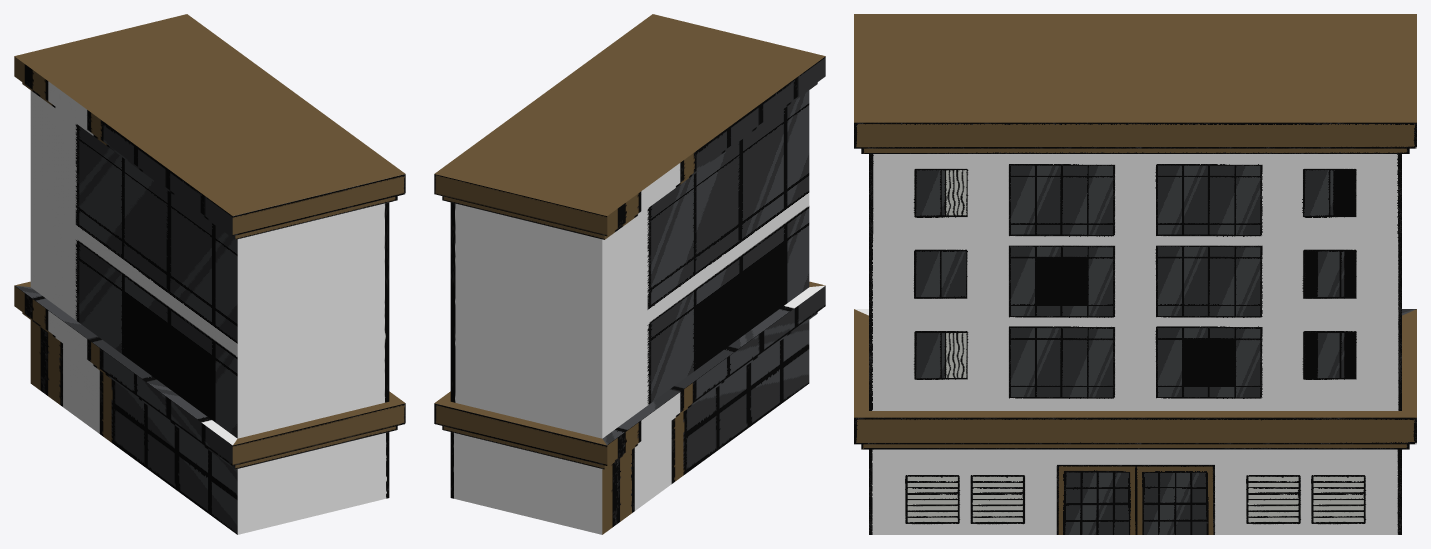
Rendered from predio_3.glb.
3 views of the same model, side by side, from view 1: azimuth 30°, elevation 25°; view 2: azimuth 150°, elevation 25°; view 3: azimuth 270°, elevation 25° (orthographic). The views are drawn at different scales.
Parts seen in each view (by area): view 1: Cube; view 2: Cube; view 3: Cube.
Boxes of the visible parts, x1,y1,x2,y2 form: Cube: (14,14,405,534); Cube: (434,14,825,534); Cube: (854,14,1416,534).
Size of the model in its own units: 2.23 by 4.01 by 4.88.
1 material, 1 textured.
